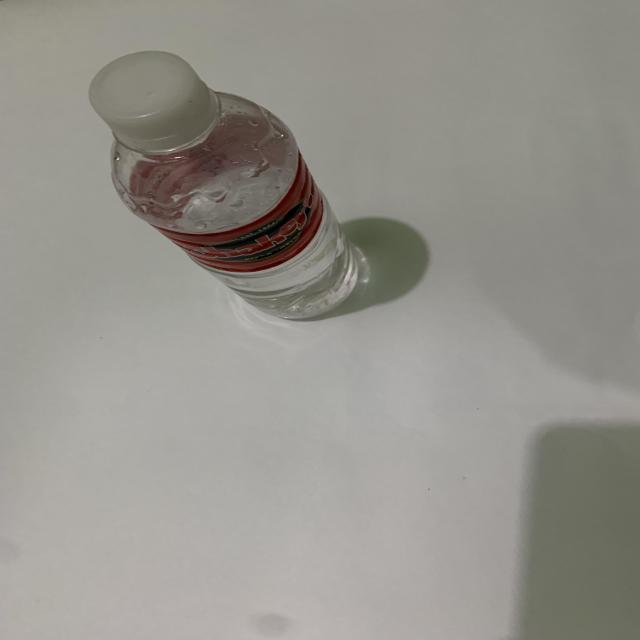bottle: (80, 44, 372, 323)
